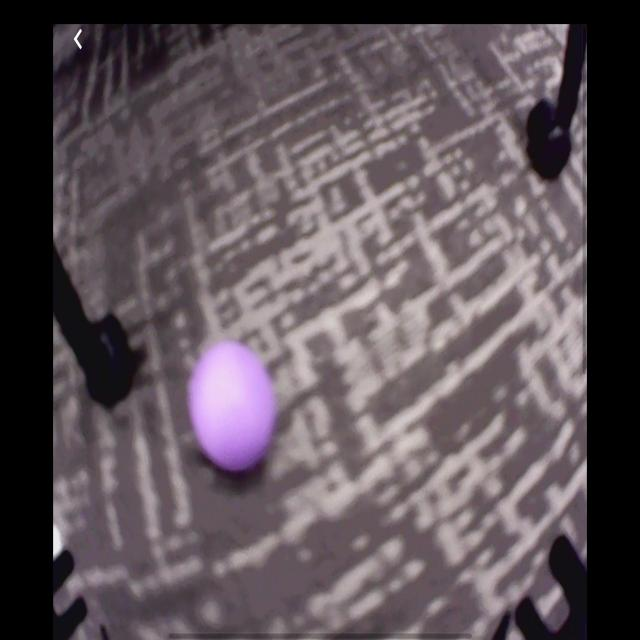ball: (189, 343, 274, 472)
